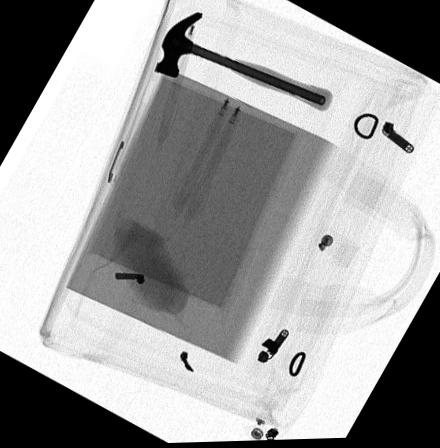Hammer: (153, 12, 331, 113)
